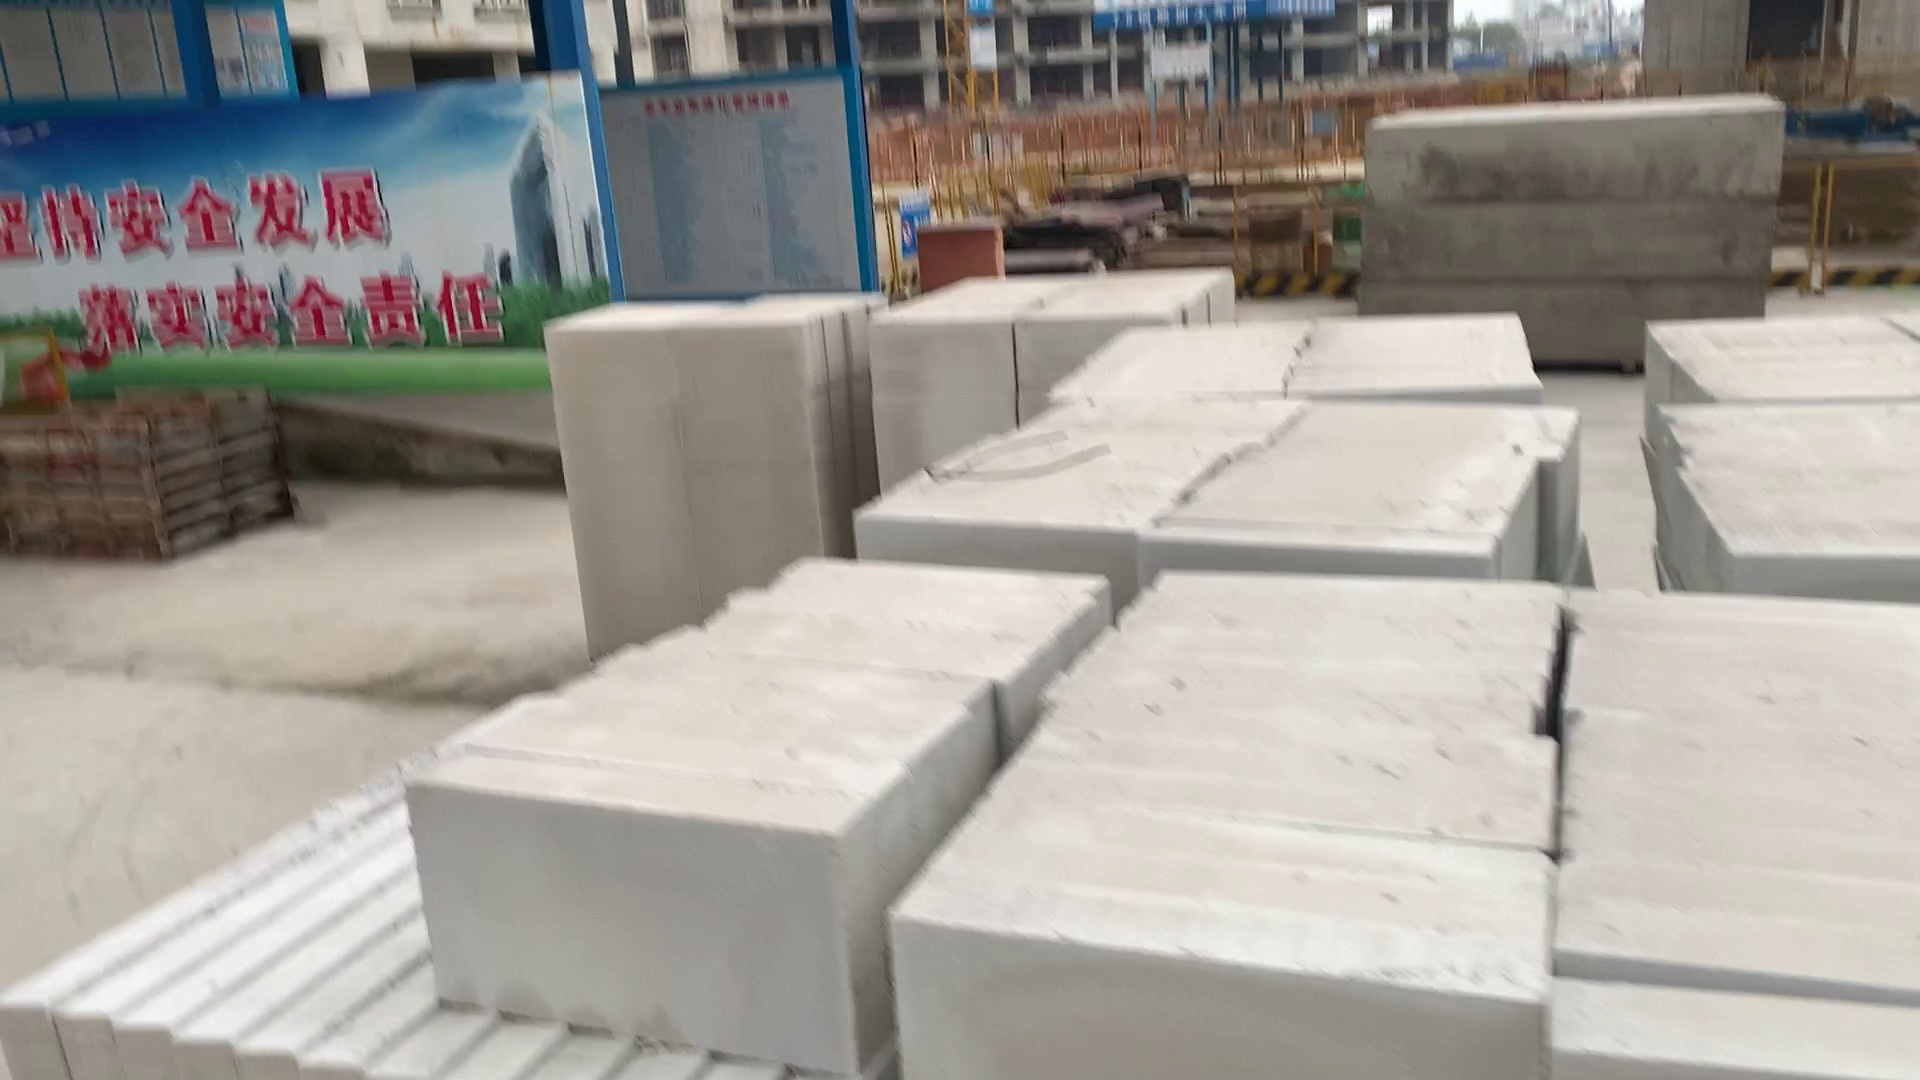brickwork: (440, 556, 1100, 1069), (931, 564, 1563, 1062), (1572, 600, 1913, 1080), (855, 386, 1569, 576), (1353, 105, 1787, 363), (543, 293, 855, 618), (873, 253, 1238, 386), (1658, 400, 1920, 567), (1085, 316, 1547, 400), (1615, 316, 1920, 400)
